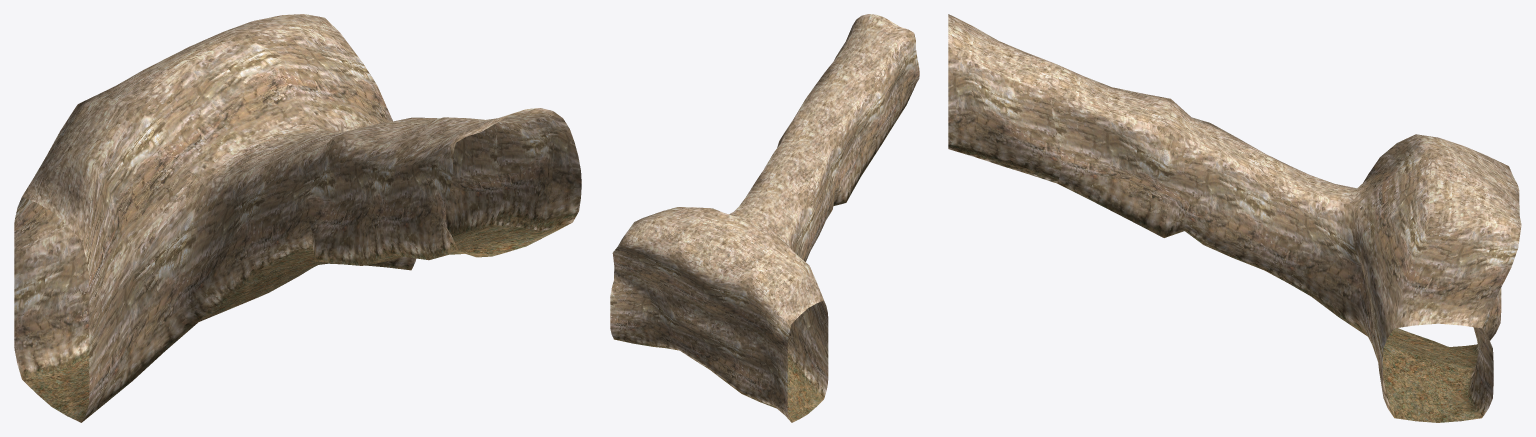
The model's file is thm_all_cave_s03_r1_mesh_r1.fbx.
The picture shows the model from 3 angles, left to right: view 1: azimuth 30°, elevation 25°; view 2: azimuth 150°, elevation 25°; view 3: azimuth 270°, elevation 25°; orthographic projection. The views are drawn at different scales.
Visible parts, largest first — view 1: mesh_node; view 2: mesh_node; view 3: mesh_node.
Part boxes in pixels (bbox=[...]): mesh_node: bbox=[14, 14, 581, 422]; mesh_node: bbox=[610, 14, 919, 422]; mesh_node: bbox=[948, 14, 1521, 422].
Size of the model in its own units: 22.7 by 31.04 by 41.47.
